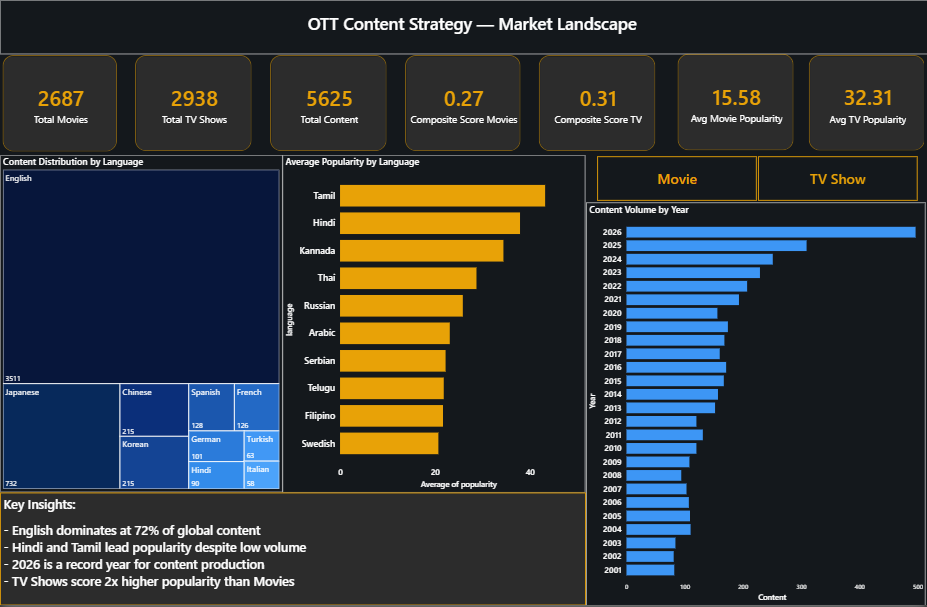

What the dashboard file says about the page in this screenshot:
{"tool":"powerbi","page":{"name":"Content Landscape","canvas":[1766,1153],"ordinal":0},"visuals":[{"type":"cardVisual","fields":{"Data":["_Measures.Total Movies"]},"box":[0,100,228.2,194.9],"z":0},{"type":"cardVisual","fields":{"Data":["_Measures.Total Content"]},"box":[509.9,99.8,232.3,193.9],"z":1000},{"type":"cardVisual","fields":{"Data":["_Measures.Total TV Shows"]},"box":[252.9,99.8,232.3,193.9],"z":2000},{"type":"cardVisual","fields":{"Data":["_Measures.Composite Score TV"]},"box":[1021.9,99.8,232.3,193.9],"z":3000},{"type":"cardVisual","fields":{"Data":["_Measures.Composite Score Movies"]},"box":[766.1,100.6,230.2,193.5],"z":4000},{"type":"textbox","box":[0,0,1799.4,103],"z":5000},{"type":"treemap","title":"Content Distribution by Language","fields":{"Group":["language_lookup.language_name"],"Values":["CountNonNull(ott_combined.id)"]},"box":[0,294.7,538.4,642.5],"z":6000},{"type":"clusteredBarChart","title":"Average Popularity by Language","fields":{"Category":["language_lookup.language_name"],"Y":["Avg(ott_combined.popularity)"]},"box":[538.4,294.4,577.2,643],"z":7000},{"type":"clusteredBarChart","title":"Content Volume by Year","fields":{"Category":["ott_combined.release_date.Variation.Date Hierarchy.Year","ott_combined.release_date.Variation.Date Hierarchy.Quarter","ott_combined.release_date.Variation.Date Hierarchy.Month","ott_combined.release_date.Variation.Date Hierarchy.Day"],"Y":["CountNonNull(ott_combined.id)"]},"box":[1116.3,385,648.1,768.1],"z":8000},{"type":"textbox","box":[0,937.4,1115.6,215],"z":9000},{"type":"slicer","fields":{"Values":["ott_combined.content_type"]},"box":[1116.3,294.1,650.1,89],"z":10000},{"type":"cardVisual","fields":{"Data":["_Measures.Avg Movie Popularity"]},"box":[1285,98.2,231.9,194.5],"z":11000},{"type":"cardVisual","fields":{"Data":["_Measures.Avg TV Popularity"]},"box":[1534.5,100.2,231.9,192.6],"z":12000}]}

Visuals, with their boxes in screenshot pixels (x1, y1, x2, y2), scaled from the page's 1766x1153 canvas onto the 927x607 screenshot:
cardVisual - _Measures.Total Movies: (0, 53, 120, 155)
cardVisual - _Measures.Total Content: (268, 53, 390, 155)
cardVisual - _Measures.Total TV Shows: (133, 53, 255, 155)
cardVisual - _Measures.Composite Score TV: (536, 53, 658, 155)
cardVisual - _Measures.Composite Score Movies: (402, 53, 523, 155)
textbox: (0, 0, 926, 54)
"Content Distribution by Language" treemap: (0, 155, 283, 493)
"Average Popularity by Language" clusteredBarChart: (283, 155, 586, 493)
"Content Volume by Year" clusteredBarChart: (586, 203, 926, 606)
textbox: (0, 493, 586, 606)
slicer - ott_combined.content_type: (586, 155, 926, 202)
cardVisual - _Measures.Avg Movie Popularity: (675, 52, 796, 154)
cardVisual - _Measures.Avg TV Popularity: (805, 53, 926, 154)
